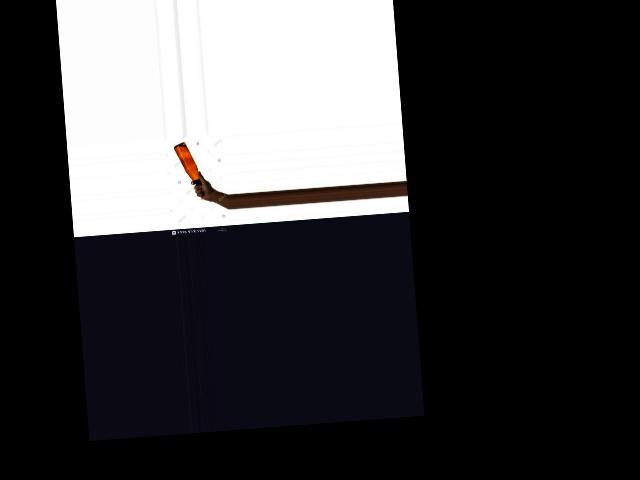beer: (173, 140, 204, 196)
